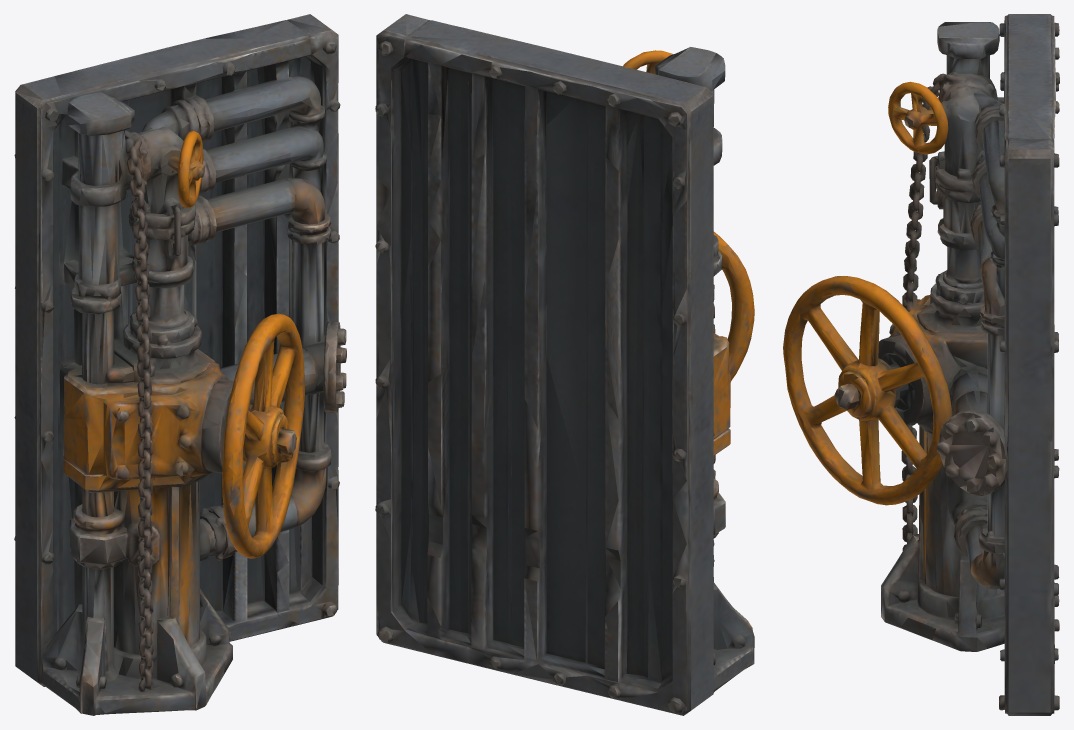
Rendered from PressureCassette.glb.
The picture shows the model from 3 angles, left to right: view 1: azimuth 30°, elevation 25°; view 2: azimuth 150°, elevation 25°; view 3: azimuth 270°, elevation 25°; orthographic projection. The views are drawn at different scales.
Parts seen in each view (by area): view 1: tripo_node_728d76e2-add0-4d9e-adb4-6bb0afe62e95; view 2: tripo_node_728d76e2-add0-4d9e-adb4-6bb0afe62e95; view 3: tripo_node_728d76e2-add0-4d9e-adb4-6bb0afe62e95.
Boxes of the visible parts, left/top/right/bottom form: tripo_node_728d76e2-add0-4d9e-adb4-6bb0afe62e95: left=14, top=14, right=346, bottom=715; tripo_node_728d76e2-add0-4d9e-adb4-6bb0afe62e95: left=375, top=14, right=754, bottom=715; tripo_node_728d76e2-add0-4d9e-adb4-6bb0afe62e95: left=783, top=14, right=1059, bottom=715.
Bounding box in the file's own units: 0.531 × 0.9796 × 0.4337.
1 material, 1 textured.
